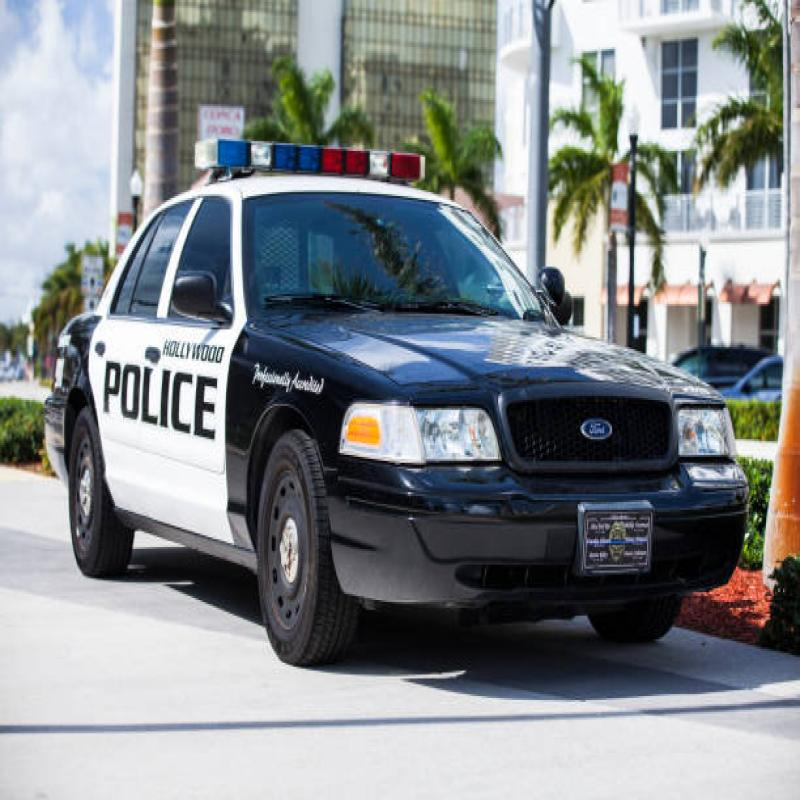AmbulanceSiren: (184, 126, 446, 201)
